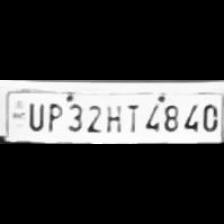0: (200, 100, 218, 132)
2: (84, 100, 103, 132)
3: (64, 100, 84, 132)
4: (141, 98, 161, 132), (180, 99, 200, 131)
8: (160, 100, 178, 132)
H: (103, 100, 123, 134)
P: (44, 100, 62, 132)
T: (124, 102, 140, 132)
U: (24, 99, 44, 131)
